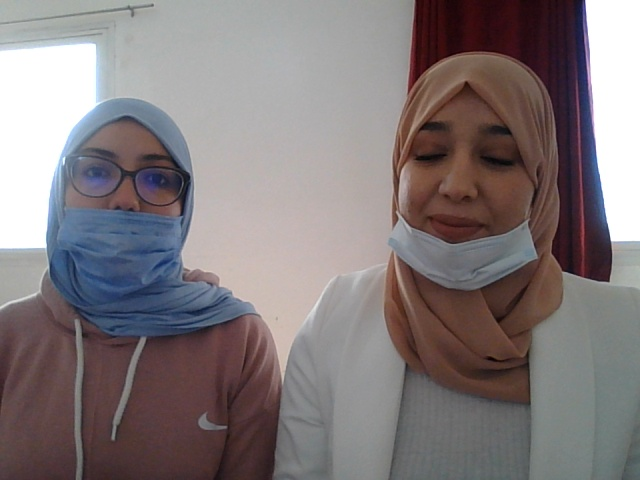mask_weared_incorrect: (359, 42, 551, 304), (52, 110, 196, 310)
